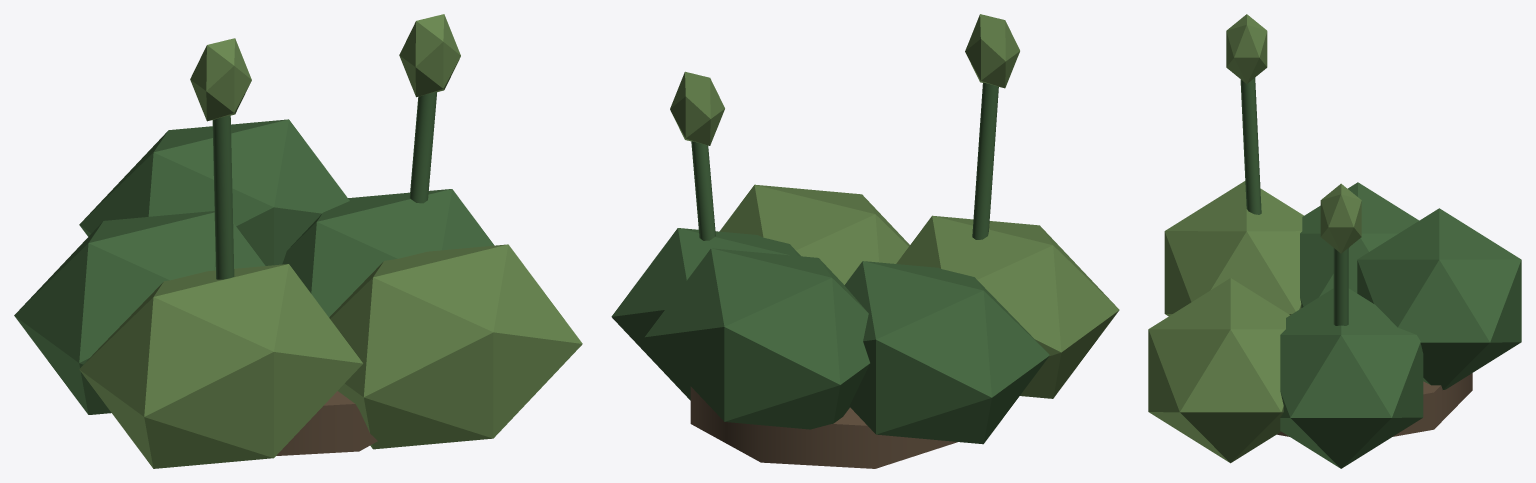
The model's file is plant-moss-2.glb.
The picture shows the model from 3 angles, left to right: view 1: azimuth 30°, elevation 25°; view 2: azimuth 150°, elevation 25°; view 3: azimuth 270°, elevation 25°; orthographic projection. The views are drawn at different scales.
Visible parts, largest first — view 1: plant-moss-2-visual; view 2: plant-moss-2-visual; view 3: plant-moss-2-visual.
Part boxes in pixels (left/top/right/bottom): plant-moss-2-visual: left=14, top=14, right=582, bottom=468; plant-moss-2-visual: left=611, top=14, right=1119, bottom=468; plant-moss-2-visual: left=1148, top=14, right=1521, bottom=468.
Bounding box in the file's own units: 0.4852 × 0.455 × 0.4542.
